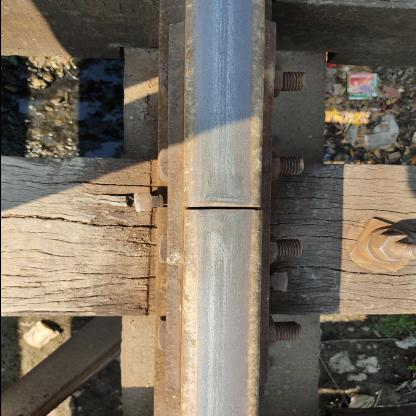Non Defective 2: (180, 173, 264, 247)
Non Defective 3: (228, 52, 331, 384)
